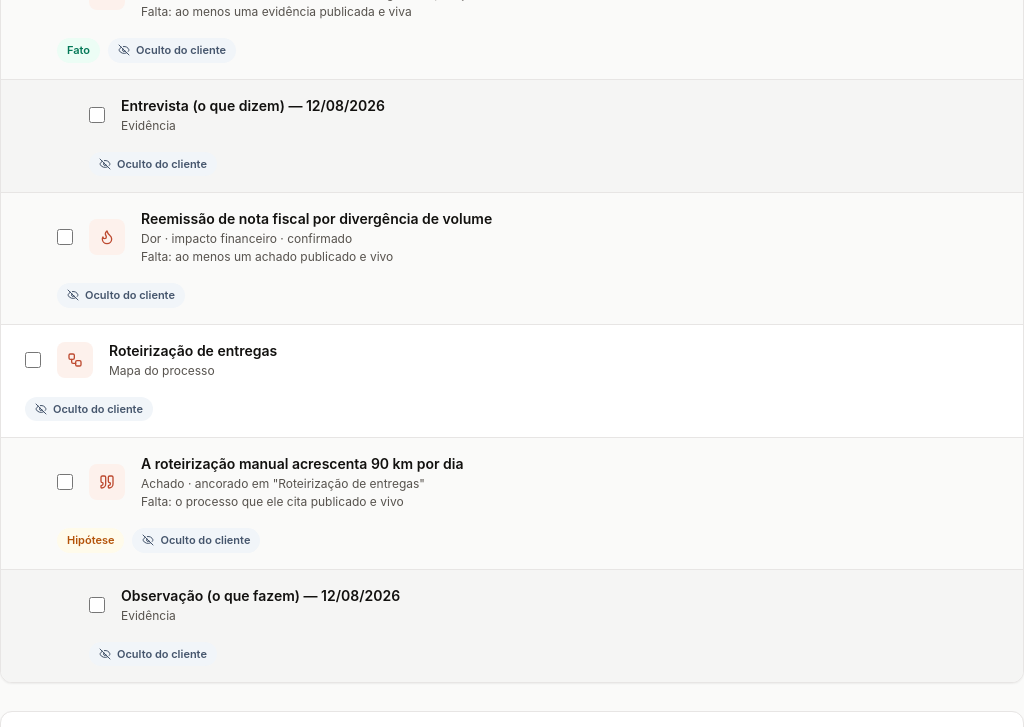
Scenario: o lote sobe na ordem da cadeia, e a falha parcial não desfaz o que passou
(page scrolled)
Click the checkbox named "Selecionar para publicar: Roteirização de entregas" at (33, 360), box [25,352,41,368]
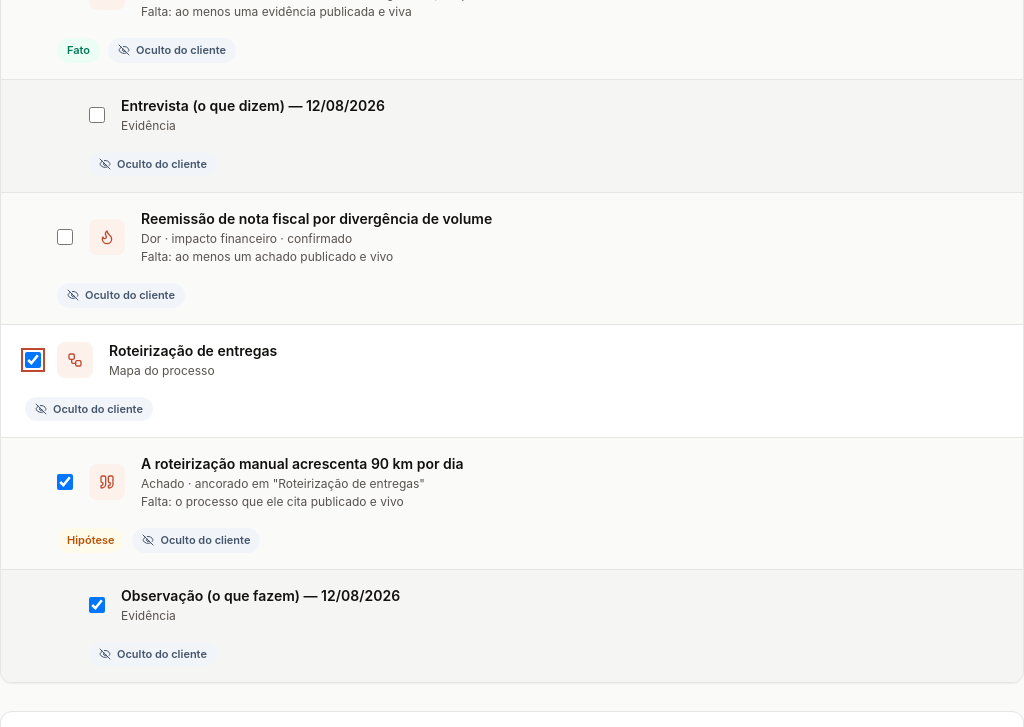
Click the checkbox named "Selecionar para publicar: Reemissão de nota fiscal" at (65, 237), box [57,229,73,245]
(page scrolled)
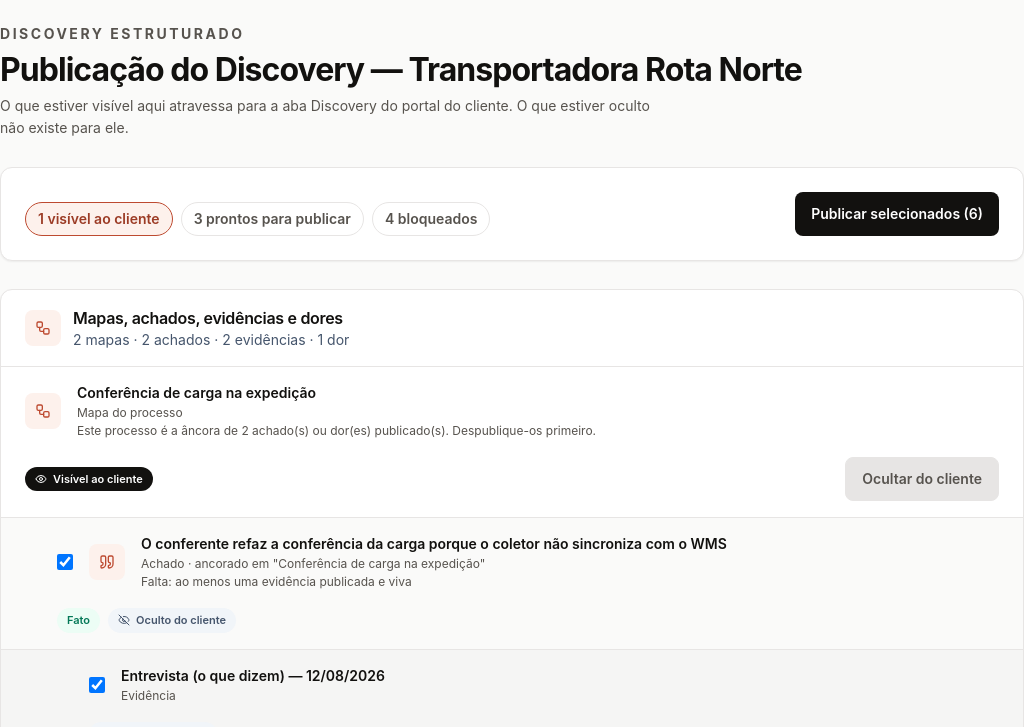
Click the button "Publicar selecionados (6)" at (897, 214), box [795,192,999,236]
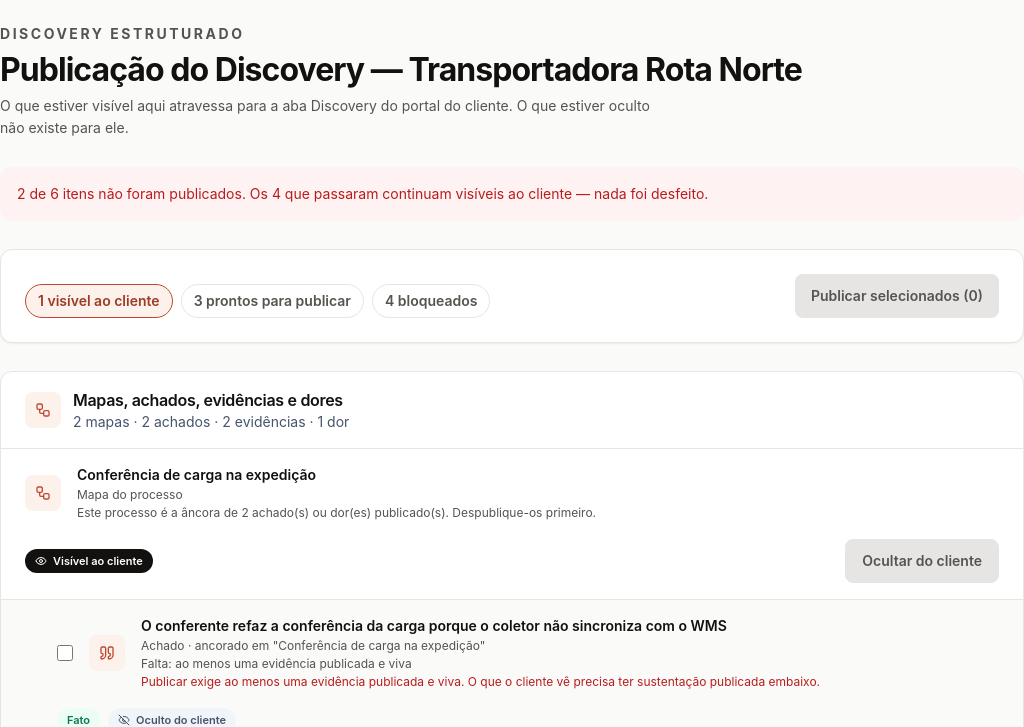
Now the text "não foram publicados" shows "nada foi desfeito", box [17,185,708,202]
